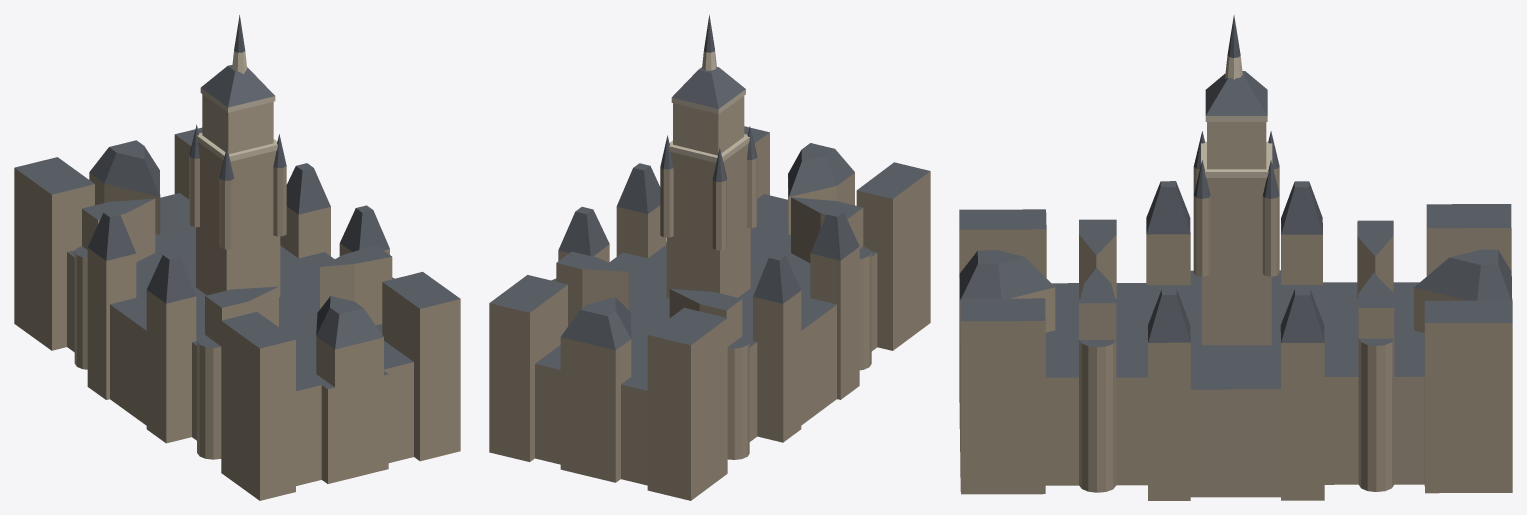
Rendered from city_county_building.glb.
3 renders of one model, left to right at view 1: azimuth 30°, elevation 25°; view 2: azimuth 150°, elevation 25°; view 3: azimuth 270°, elevation 25°, orthographic. The views are drawn at different scales.
Visible parts, largest first — view 1: City_County_Building; view 2: City_County_Building; view 3: City_County_Building.
Boxes of the visible parts, <box> form: City_County_Building: <box>14,15,460,500</box>; City_County_Building: <box>489,14,930,500</box>; City_County_Building: <box>959,15,1512,500</box>.
Size of the model in its own units: 44.76 by 70.9 by 83.78.
